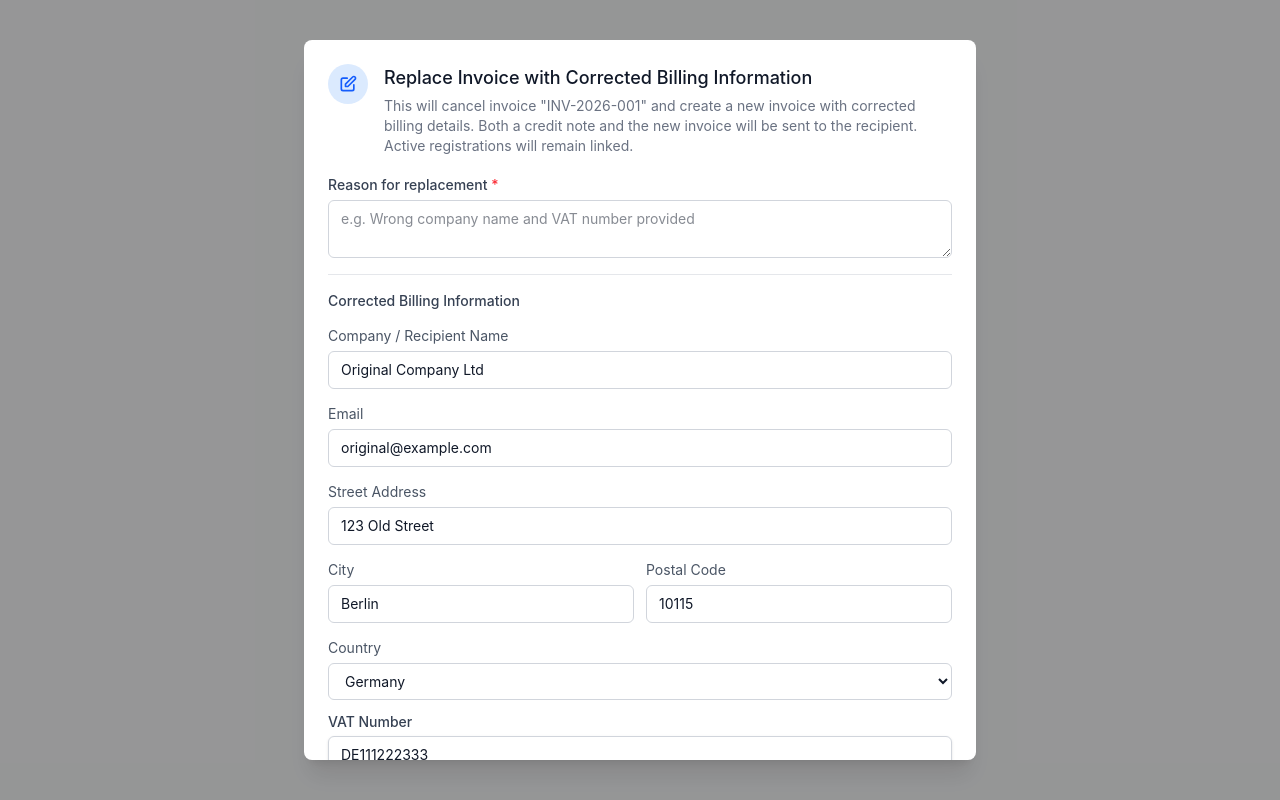
Test case: ReplaceInvoiceDialog › should enable confirm button when reason and at least one field changed
Type "Company name was incorrect" into the text box with placeholder "e.g. Wrong company name and VAT number provided". click: point(640, 229)
box: [328,200,952,258]
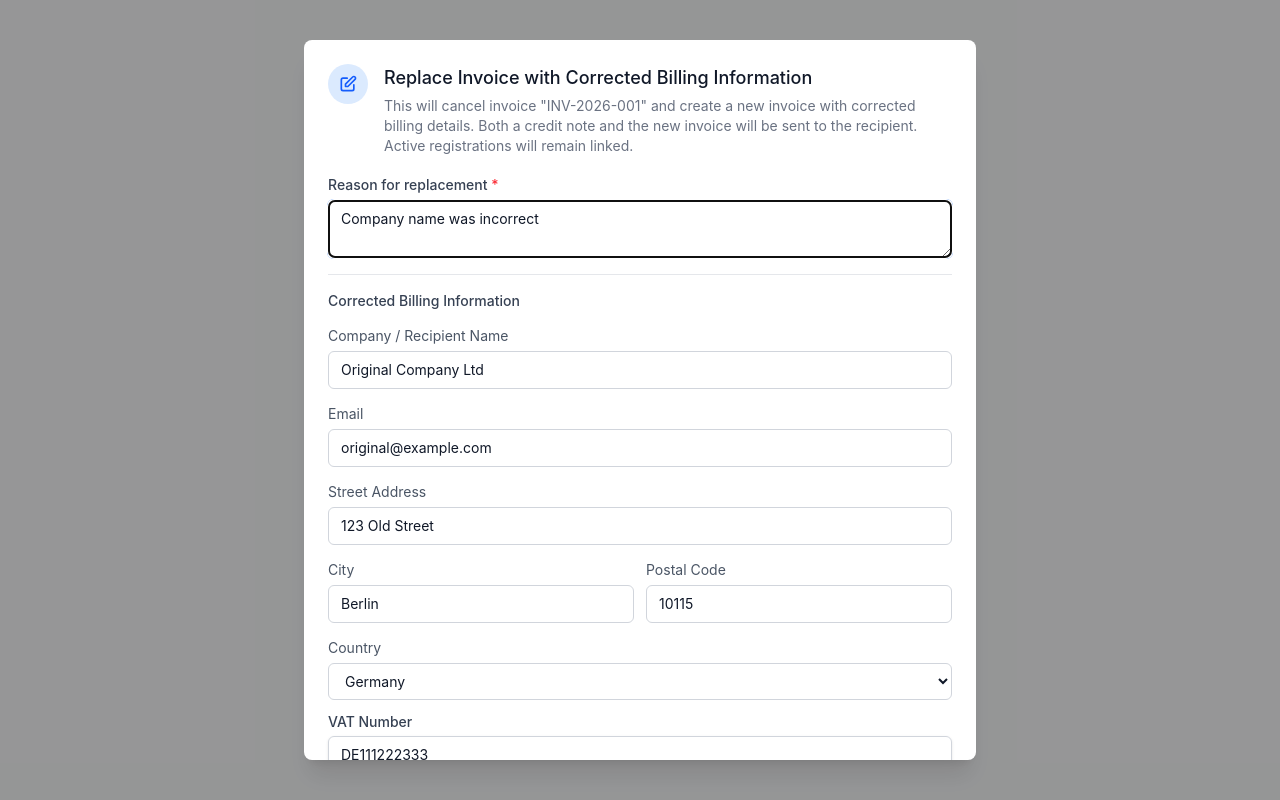
Replace the text in the field showing "Original Company Ltd" with "Corrected Company GmbH". click: point(640, 370)
box: [328,351,952,389]
(page scrolled)
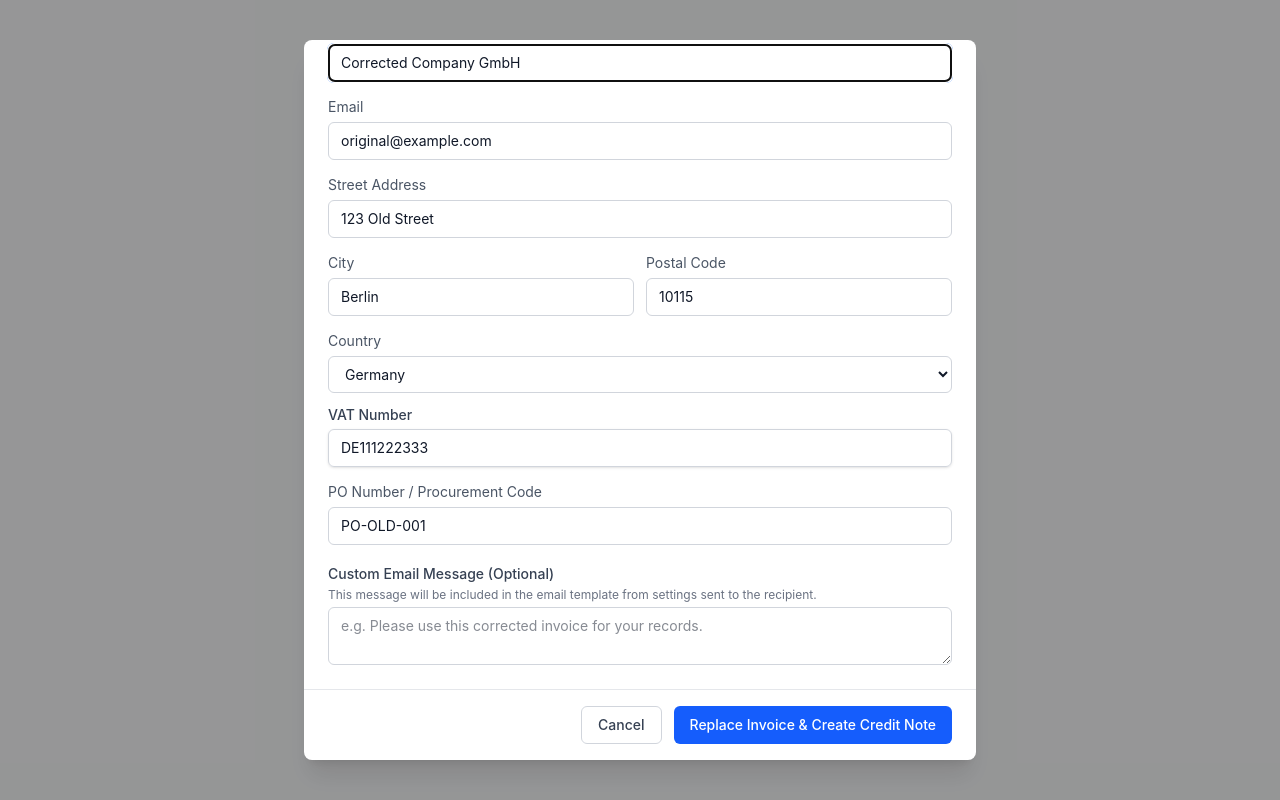
Expected: the button "Replace Invoice & Create Credit Note" is enabled, [674,706,952,744]
